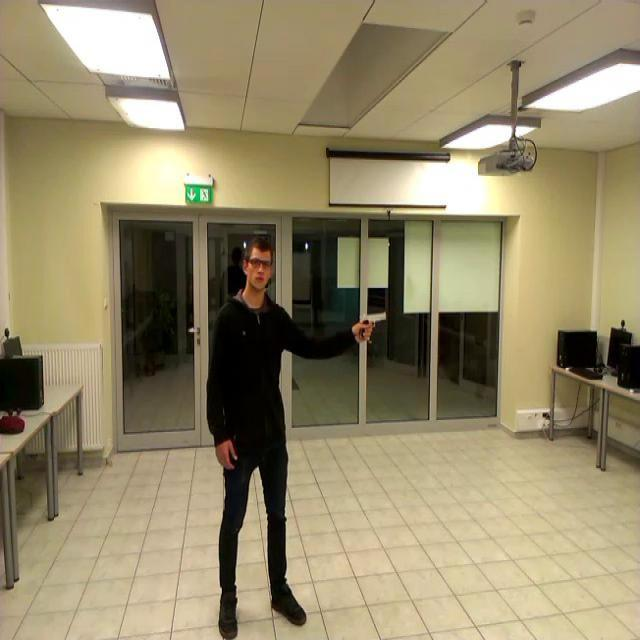weapon: (358, 310, 387, 346)
